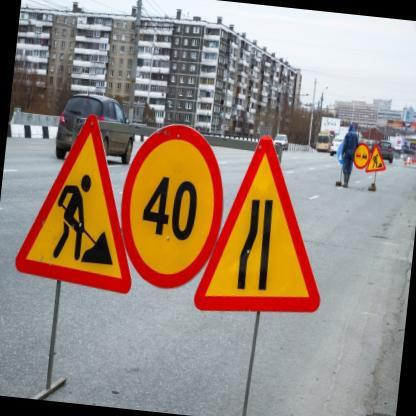road_sign: (194, 136, 319, 312), (16, 115, 130, 293), (122, 124, 221, 287), (365, 144, 384, 171), (354, 141, 370, 169)
